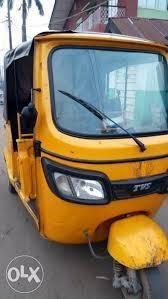keke: (0, 27, 168, 299)
